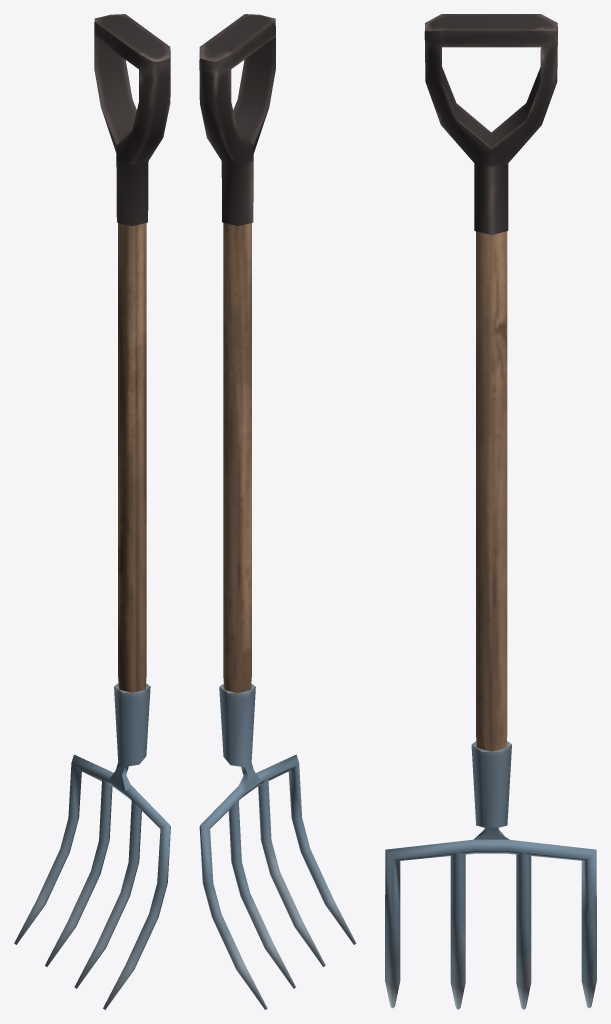
Rendered from ITEM_pitchfork02.fbx.
3 views of the same model, side by side, from view 1: azimuth 30°, elevation 25°; view 2: azimuth 150°, elevation 25°; view 3: azimuth 270°, elevation 25° (orthographic). The views are drawn at different scales.
Visible parts, largest first — view 1: ITEM_pitchfork02; view 2: ITEM_pitchfork02; view 3: ITEM_pitchfork02.
Boxes of the visible parts, bbox=[...] form: ITEM_pitchfork02: bbox=[14, 14, 170, 1009]; ITEM_pitchfork02: bbox=[199, 14, 356, 1009]; ITEM_pitchfork02: bbox=[385, 14, 596, 1009].
Size of the model in its own units: 12.5 by 123 by 22.96.
